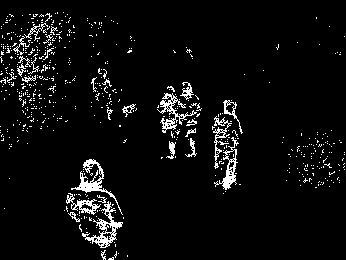person: (66, 156, 124, 260), (215, 99, 247, 193), (178, 80, 210, 162), (157, 84, 182, 166), (88, 68, 117, 128)
